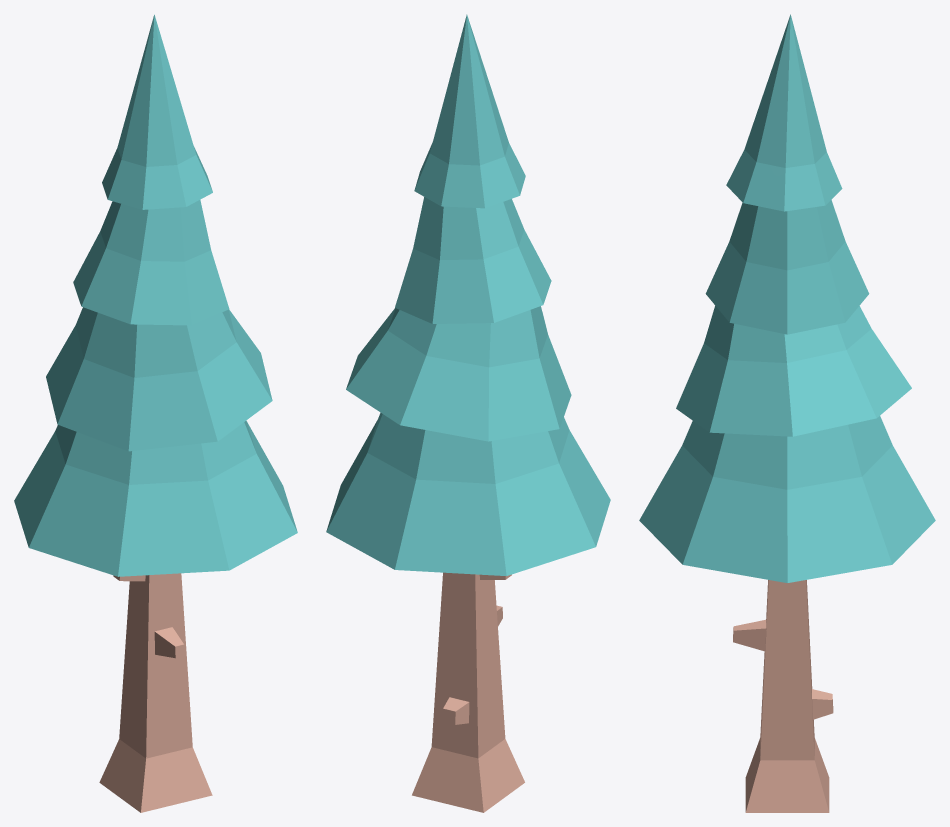
Rendered from tree_pineDefaultB.fbx.
The picture shows the model from 3 angles, left to right: view 1: azimuth 30°, elevation 25°; view 2: azimuth 150°, elevation 25°; view 3: azimuth 270°, elevation 25°; orthographic projection.
Visible parts, largest first — view 1: tree_pineDefaultB_LOD0; view 2: tree_pineDefaultB_LOD0; view 3: tree_pineDefaultB_LOD0.
Boxes of the visible parts, x1,y1,x2,y2 form: tree_pineDefaultB_LOD0: [14, 14, 297, 812]; tree_pineDefaultB_LOD0: [326, 14, 610, 812]; tree_pineDefaultB_LOD0: [639, 14, 935, 812].
Size of what is drawn, in the model's own units: 53.2 by 155 by 53.2.
